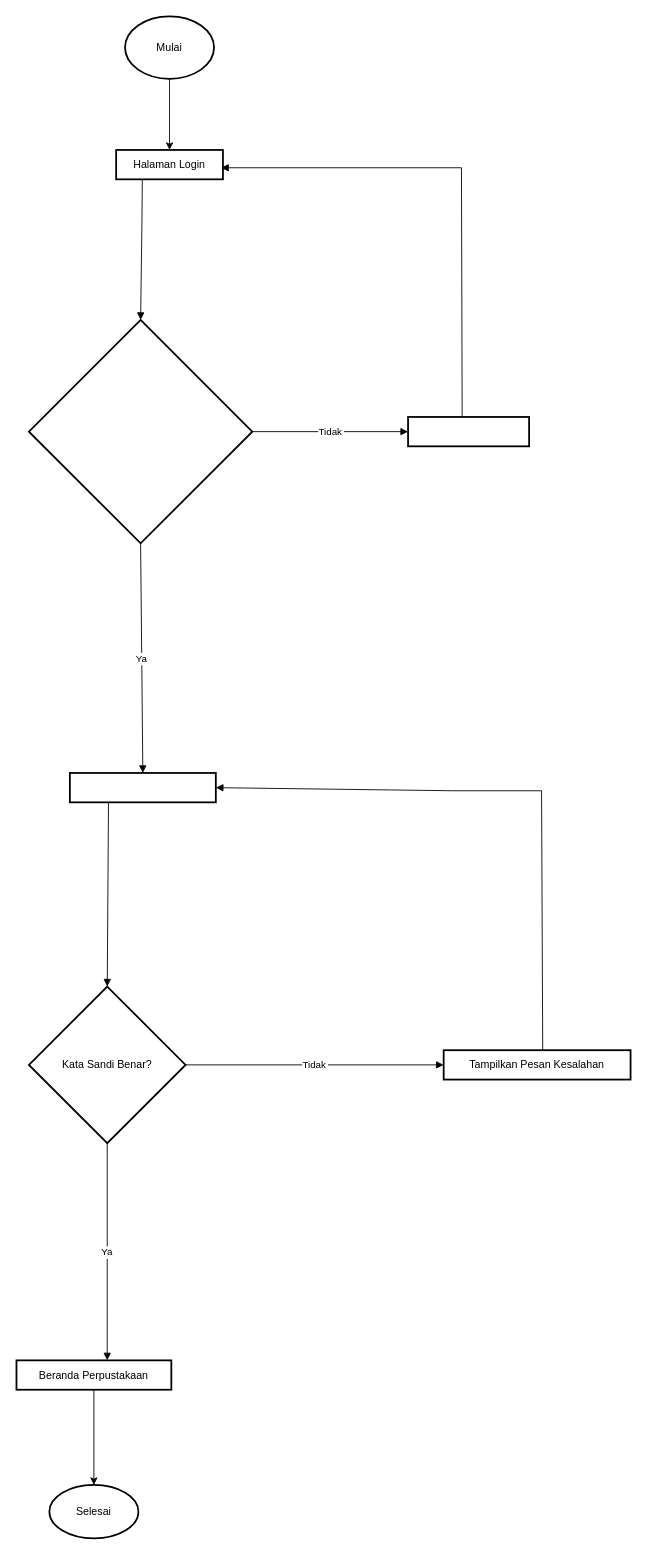
The diagram is 646 pixels wide and 1554 high, and some of its shapes have lost their labels. The shapes that lost their labels are listed below. From the top down, each one's centre as x and y in pixels, then its label:
At point (140, 431): "Apakah pengguna terdaftar?".
At point (468, 431): "Daftar Akun Baru".
At point (142, 787): "Masukkan Kata Sandi".
